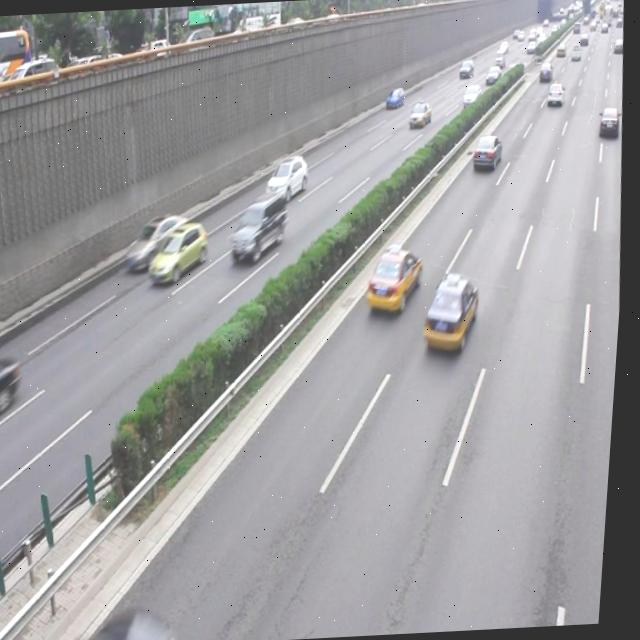car: (423, 272, 485, 354), (230, 188, 293, 266), (365, 244, 428, 316), (126, 210, 196, 272), (149, 220, 214, 285), (266, 153, 312, 203), (0, 354, 30, 429), (472, 132, 505, 174)
